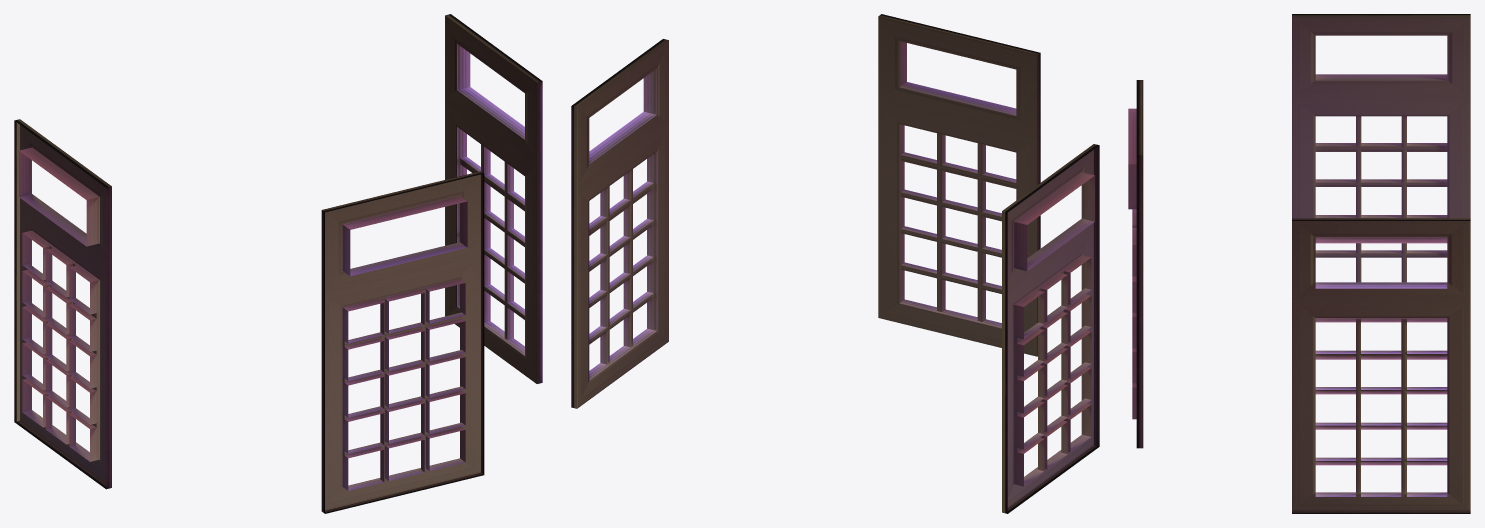
File: upstairsbaywindow.obj
3 views of the same model, side by side, from view 1: azimuth 30°, elevation 25°; view 2: azimuth 150°, elevation 25°; view 3: azimuth 270°, elevation 25° (orthographic). The views are drawn at different scales.
Parts seen in each view (by area): view 1: upstairsbaywindowsBaked BedroomBakedTriExport; view 2: upstairsbaywindowsBaked BedroomBakedTriExport; view 3: upstairsbaywindowsBaked BedroomBakedTriExport.
Part boxes in pixels (x1,y1,x2,y2): upstairsbaywindowsBaked BedroomBakedTriExport: (14, 14, 542, 513); upstairsbaywindowsBaked BedroomBakedTriExport: (571, 14, 1099, 513); upstairsbaywindowsBaked BedroomBakedTriExport: (1128, 14, 1470, 513).
Bounding box in the file's own units: 2.49 × 1.59 × 1.68.
Materials: 1 (1 with a texture image).
